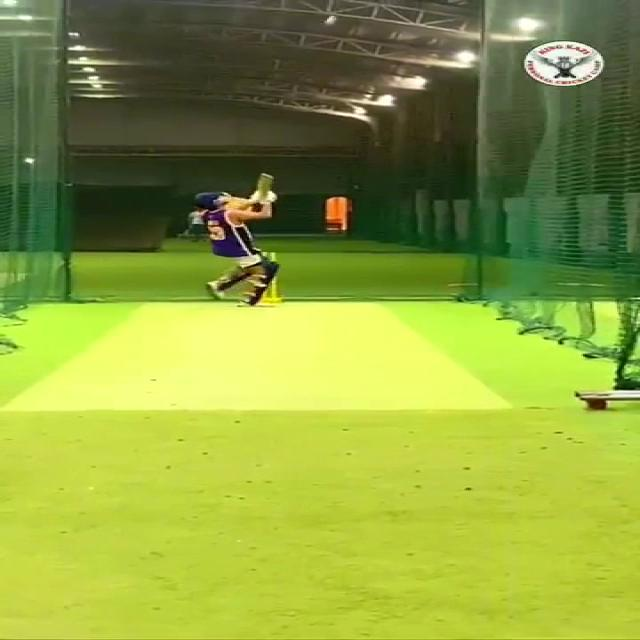batsman: (183, 171, 290, 311)
